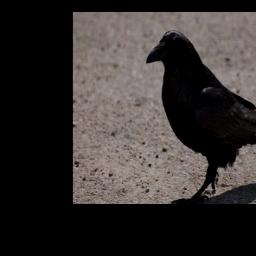Crow: (144, 29, 256, 203)
